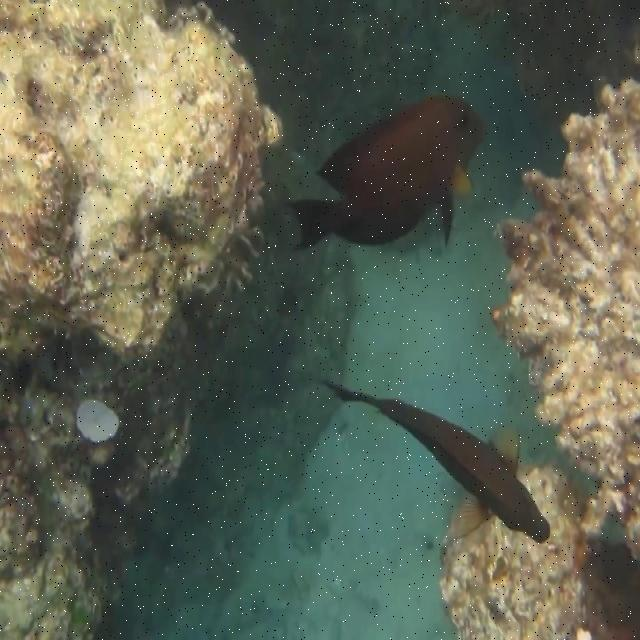fish: (324, 378, 551, 544), (276, 94, 486, 254)
sea-floor: (438, 79, 639, 639)
